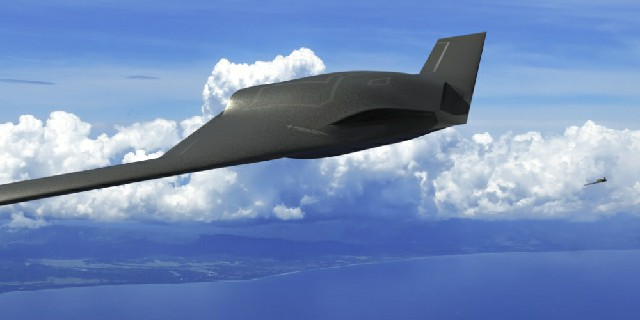maybay_khongnguoilai: (5, 29, 484, 194)
